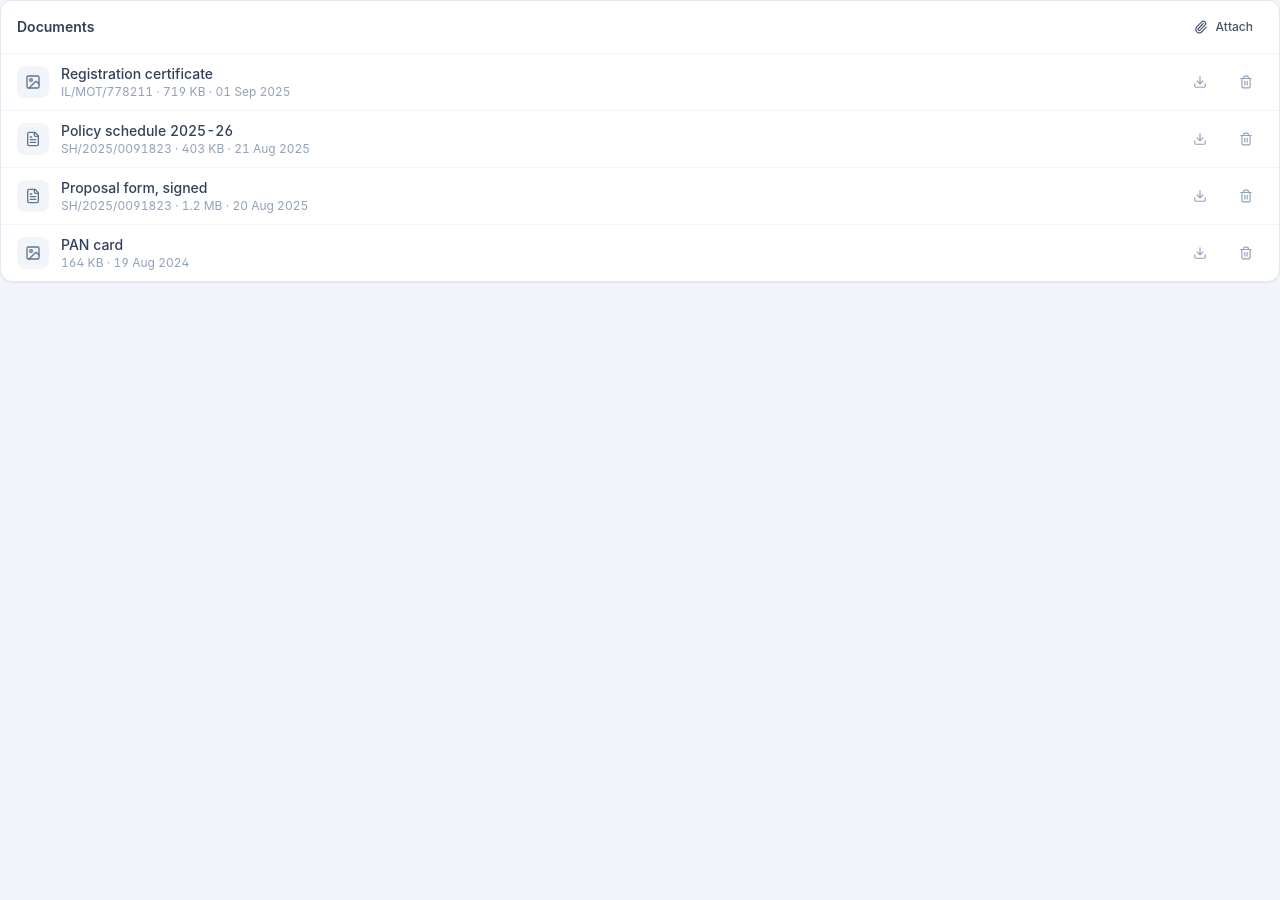
Scenario: attaching a document › attaches the file that was picked, titled after it
The width and height of the screenshot is (1280, 900).
Click the button "Attach".
click(1223, 27)  # box [1184,13,1263,41]
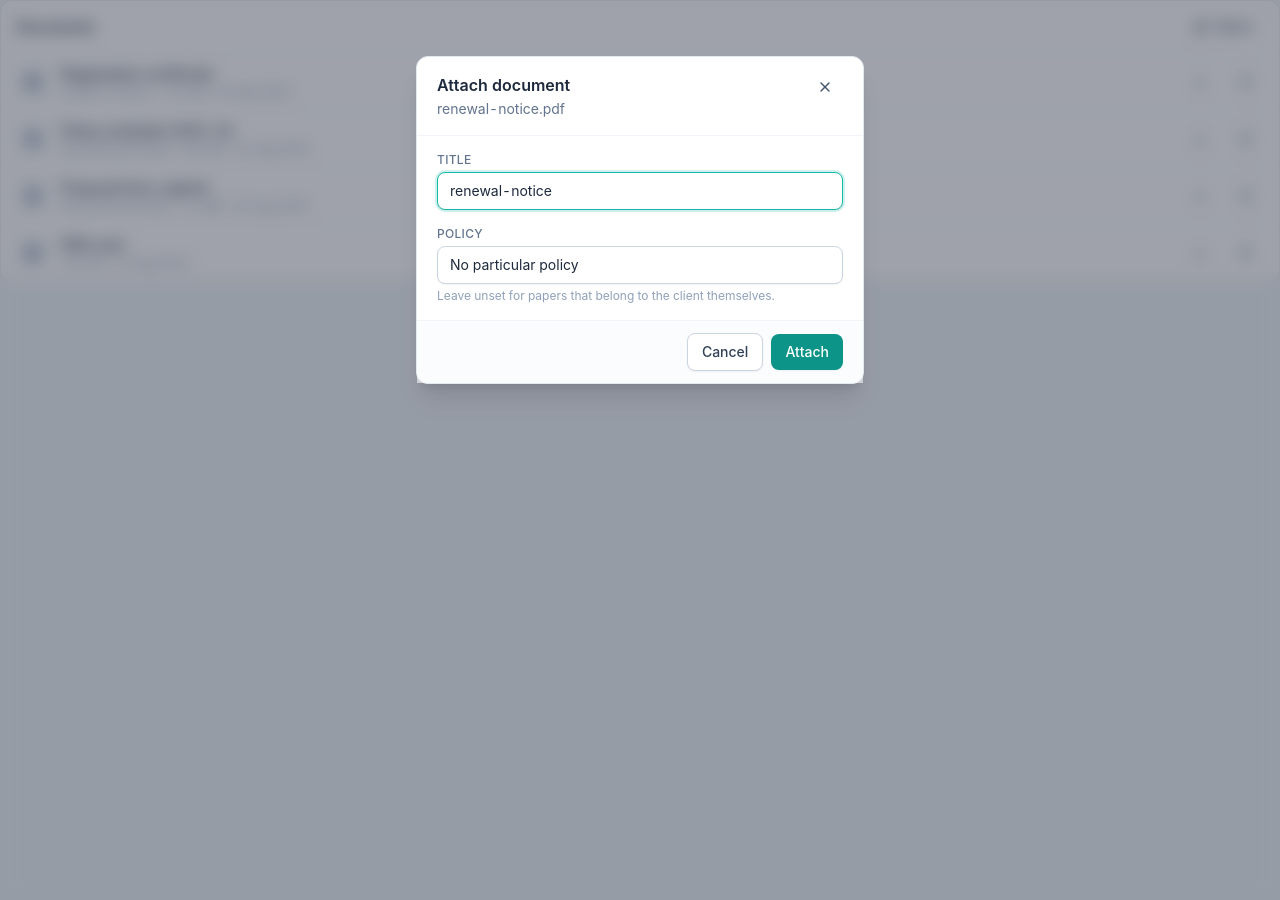
Now the heading "Attach document" is shown, box [437,73,570,97]
Now the text "renewal-notice.pdf" is shown, box [437,99,570,119]
Now the field labelled "Title" holds "renewal-notice", box [437,172,843,210]
Click the button "Attach".
click(807, 352)  # box [771,334,843,370]
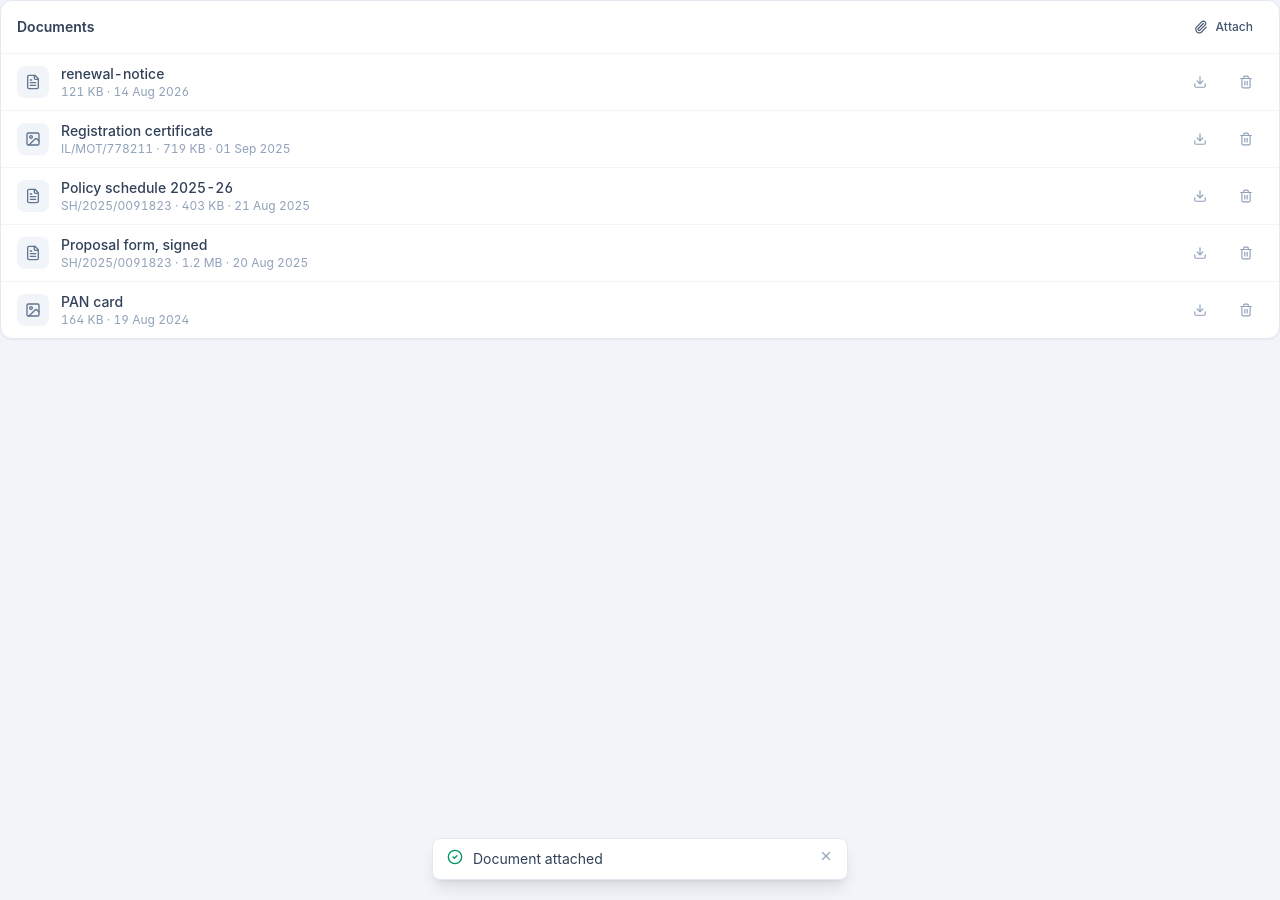
Now the text "renewal-notice" is shown, box [61,65,164,82]
Now the text "Document attached" is shown, box [473,850,603,867]
Now the dialog is gone
